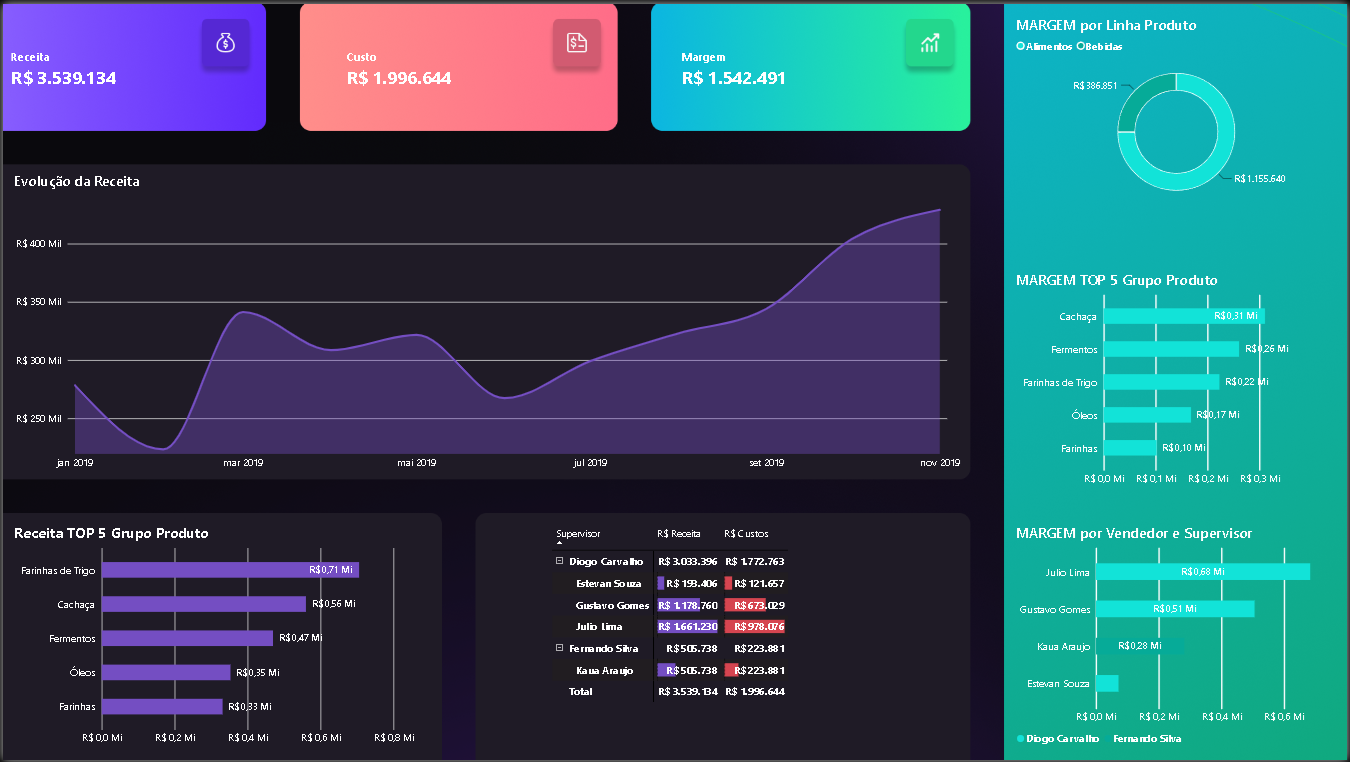

This screenshot's page, from the dashboard's own definition file:
{"tool":"powerbi","page":{"name":"Página 1","canvas":[1920,1080],"ordinal":0},"visuals":[{"type":"textbox","box":[18,480,562,458],"z":0},{"type":"clusteredBarChart","title":"MARGEM TOP 5 Grupo Produto","fields":{"Category":["Produtos.Grupo Produto"],"Y":["Vendas.R$ MARGEM"]},"box":[1431.4,364.3,488.6,344.3],"z":1000},{"type":"cardVisual","fields":{"Data":["Vendas.R$ Receita","Vendas.R$ Custos","Vendas.R$ MARGEM"]},"box":[0,0,1431.4,185.7],"z":2000},{"type":"pivotTable","fields":{"Rows":["Vendas.Supervisor","Vendas.Vendedor"],"Values":["Vendas.R$ Receita","Vendas.R$ Custos"]},"box":[768.6,725.7,510,354.3],"z":3000},{"type":"areaChart","title":"Evolução da Receita","fields":{"Category":["Vendas.Data.Variation.Hierarquia de datas.Ano","Vendas.Data.Variation.Hierarquia de datas.Trimestre","Vendas.Data.Variation.Hierarquia de datas.Mês","Vendas.Data.Variation.Hierarquia de datas.Dia"],"Y":["Vendas.R$ Receita"]},"box":[0,222.9,1384.3,462.9],"z":4000},{"type":"barChart","title":"Receita TOP 5 Grupo Produto","fields":{"Category":["Produtos.Grupo Produto"],"Y":["Vendas.R$ Receita"]},"box":[0,726.2,626.5,353.8],"z":5000},{"type":"barChart","title":"MARGEM por Vendedor e Supervisor","fields":{"Category":["Vendas.Vendedor"],"Y":["Vendas.R$ MARGEM"],"Series":["Vendas.Supervisor"]},"box":[1431.1,726.2,489.5,353.8],"z":6000},{"type":"donutChart","title":"MARGEM por Linha Produto","fields":{"Y":["Vendas.R$ MARGEM"],"Category":["Produtos.Linha Produto"]},"box":[1431.1,0,489.5,307.2],"z":7000}]}

Visuals, with their boxes in screenshot pixels (x1, y1, x2, y2), scaled from the page's 1920x1080 canvas onto the 1350x762 screenshot:
textbox: box(13, 339, 408, 662)
"MARGEM TOP 5 Grupo Produto" clusteredBarChart: box(1006, 257, 1349, 500)
cardVisual - Vendas.R$ Receita x Vendas.R$ Custos: box(0, 0, 1006, 131)
pivotTable - Vendas.Supervisor x Vendas.Vendedor: box(540, 512, 899, 761)
"Evolução da Receita" areaChart: box(0, 157, 973, 484)
"Receita TOP 5 Grupo Produto" barChart: box(0, 512, 441, 761)
"MARGEM por Vendedor e Supervisor" barChart: box(1006, 512, 1349, 761)
"MARGEM por Linha Produto" donutChart: box(1006, 0, 1349, 217)
